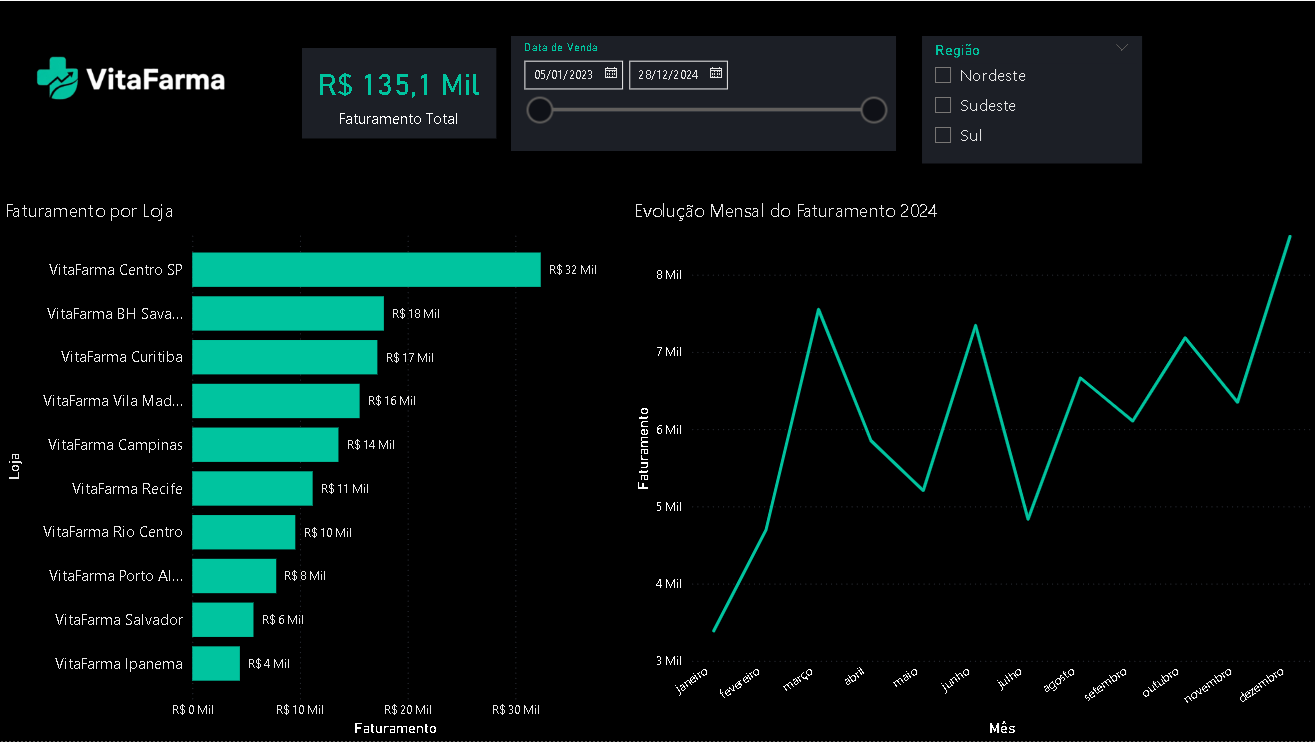

The page's visual inventory and layout, read from the dashboard file:
{"tool":"powerbi","page":{"name":"Visão Geral","canvas":[1280,720],"ordinal":0},"visuals":[{"type":"card","title":"FATURAMENTO TOTAL","fields":{"Values":["itens_venda.Faturamento"]},"box":[293.7,45.7,188.7,87.5],"z":0},{"type":"barChart","fields":{"Y":["itens_venda.Faturamento"],"Category":["lojas.nome_loja"]},"box":[0,191.6,611.8,528.1],"z":1000},{"type":"lineChart","title":"Evolução Mensal do Faturamento 2024","fields":{"Category":["vendas.data_venda.Variation.Hierarquia de datas.Mês"],"Y":["itens_venda.Faturamento"]},"box":[611.8,191.6,668.2,528.1],"z":2000},{"type":"slicer","fields":{"Values":["vendas.data_venda"]},"box":[497,34,374.5,110.9],"z":3000},{"type":"slicer","fields":{"Values":["lojas.regiao"]},"box":[896.8,34,214,123.5],"z":4000},{"type":"image","box":[8.8,0,234.4,149.8],"z":5000}]}

Visuals, with their boxes in screenshot pixels (x1, y1, x2, y2), scaled from the page's 1280x720 canvas onto the 1315x742 screenshot:
"FATURAMENTO TOTAL" card: Rect(302, 47, 496, 137)
barChart - itens_venda.Faturamento x lojas.nome_loja: Rect(0, 197, 629, 741)
"Evolução Mensal do Faturamento 2024" lineChart: Rect(629, 197, 1314, 741)
slicer - vendas.data_venda: Rect(511, 35, 895, 149)
slicer - lojas.regiao: Rect(921, 35, 1141, 162)
image: Rect(9, 0, 250, 154)
